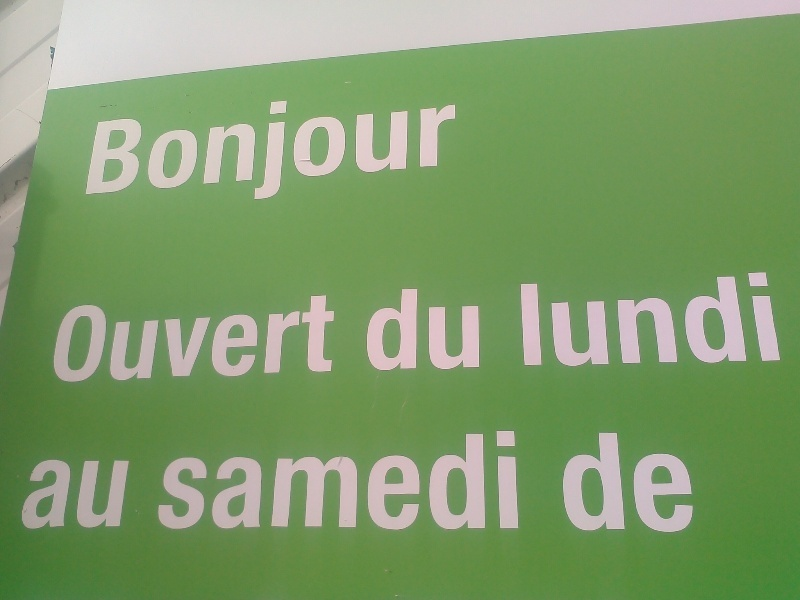text: (113, 81, 128, 212), (129, 81, 144, 212), (145, 81, 160, 212), (161, 81, 176, 212), (177, 81, 192, 212), (193, 81, 208, 212), (209, 81, 224, 212), (225, 81, 240, 212), (241, 81, 256, 212), (257, 81, 272, 212), (273, 81, 288, 212), (289, 81, 304, 212), (305, 81, 320, 212), (321, 81, 336, 212), (337, 81, 352, 212), (353, 81, 368, 212), (369, 81, 384, 212), (385, 81, 400, 212), (401, 81, 416, 212), (417, 81, 432, 212), (433, 81, 448, 212), (98, 81, 112, 212), (161, 429, 176, 532), (177, 429, 192, 532), (193, 429, 208, 532), (209, 429, 224, 532), (225, 429, 240, 532), (241, 429, 256, 532), (257, 429, 272, 532), (273, 429, 288, 532), (289, 429, 304, 532), (305, 429, 320, 532), (321, 429, 336, 532), (337, 429, 352, 532), (353, 429, 368, 532), (369, 429, 384, 532), (385, 429, 400, 532), (401, 429, 416, 532), (417, 429, 432, 532), (433, 429, 448, 532), (449, 429, 464, 532), (465, 429, 480, 532), (481, 429, 496, 532), (497, 429, 512, 532), (561, 431, 576, 534), (577, 431, 592, 534), (593, 431, 608, 534), (609, 431, 624, 534), (625, 431, 640, 534), (641, 431, 656, 534), (657, 431, 672, 534), (673, 431, 688, 534), (529, 271, 544, 368), (545, 271, 560, 368), (561, 271, 576, 368), (577, 271, 592, 368), (593, 271, 608, 368), (609, 271, 624, 368), (625, 271, 640, 368), (641, 271, 656, 368), (657, 271, 672, 368), (673, 271, 688, 368), (689, 271, 704, 368), (705, 271, 720, 368), (721, 271, 736, 368), (737, 271, 752, 368), (753, 271, 768, 368), (65, 292, 80, 384), (81, 292, 96, 384), (97, 292, 112, 384), (113, 292, 128, 384), (129, 292, 144, 384), (145, 292, 160, 384), (161, 292, 176, 384), (177, 292, 192, 384), (193, 292, 208, 384), (209, 292, 224, 384), (225, 292, 240, 384), (241, 292, 256, 384), (257, 292, 272, 384), (273, 292, 288, 384), (289, 292, 304, 384), (305, 292, 320, 384), (321, 292, 336, 384), (465, 286, 481, 372), (769, 271, 783, 368), (449, 81, 459, 212), (369, 286, 384, 372), (385, 286, 400, 372), (401, 286, 416, 372), (417, 286, 432, 372), (433, 286, 448, 372), (449, 286, 464, 372), (113, 459, 129, 532), (33, 459, 48, 532), (49, 459, 64, 532), (65, 459, 80, 532), (81, 459, 96, 532), (97, 459, 112, 532), (520, 271, 528, 368), (513, 429, 520, 532), (154, 429, 160, 532), (689, 431, 695, 534), (60, 292, 64, 384), (28, 459, 32, 532), (365, 286, 368, 372)
